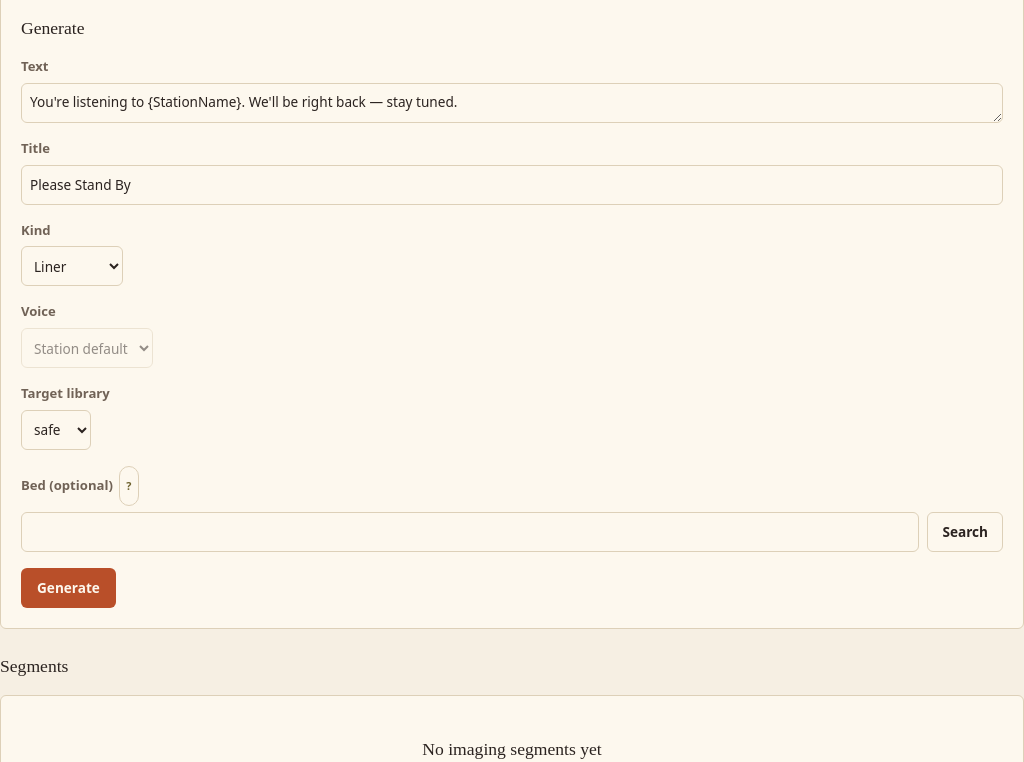
Test: Feature: Station sounds page › Scenario: generate round-trips › appends the created segment to the list on 201
The image size is (1024, 762).
Click the button "Generate": (68, 588) [21,568,116,608]
(page scrolled)
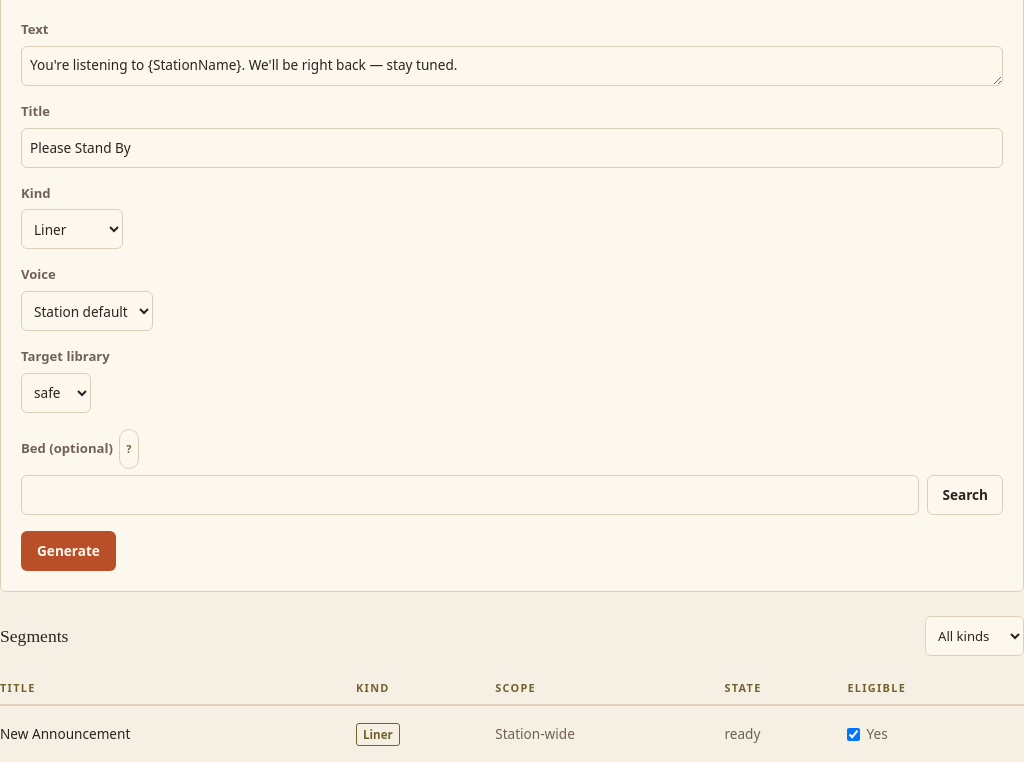
Now the text "New Announcement" is shown, box [0,705,356,761]
